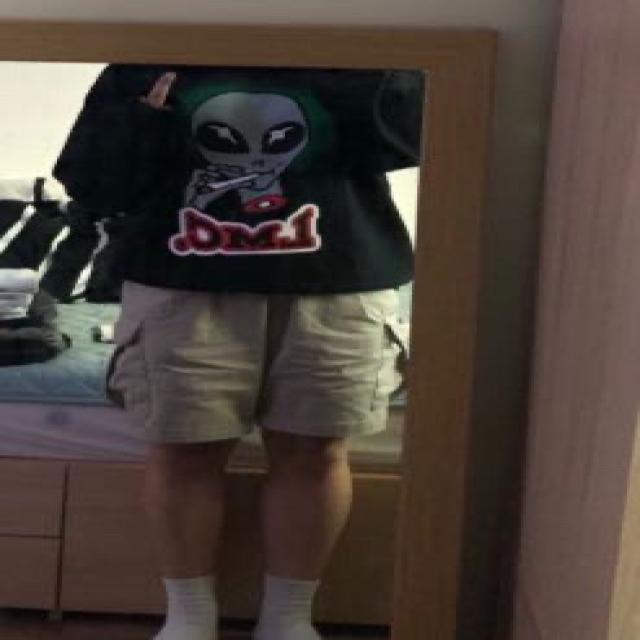mtm: (53, 59, 421, 293)
shortpants: (120, 282, 389, 444)
